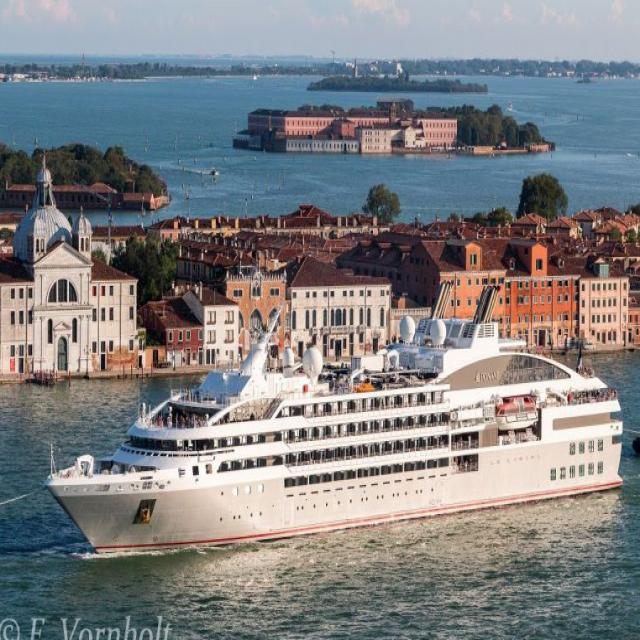cruises: (42, 276, 628, 569)
